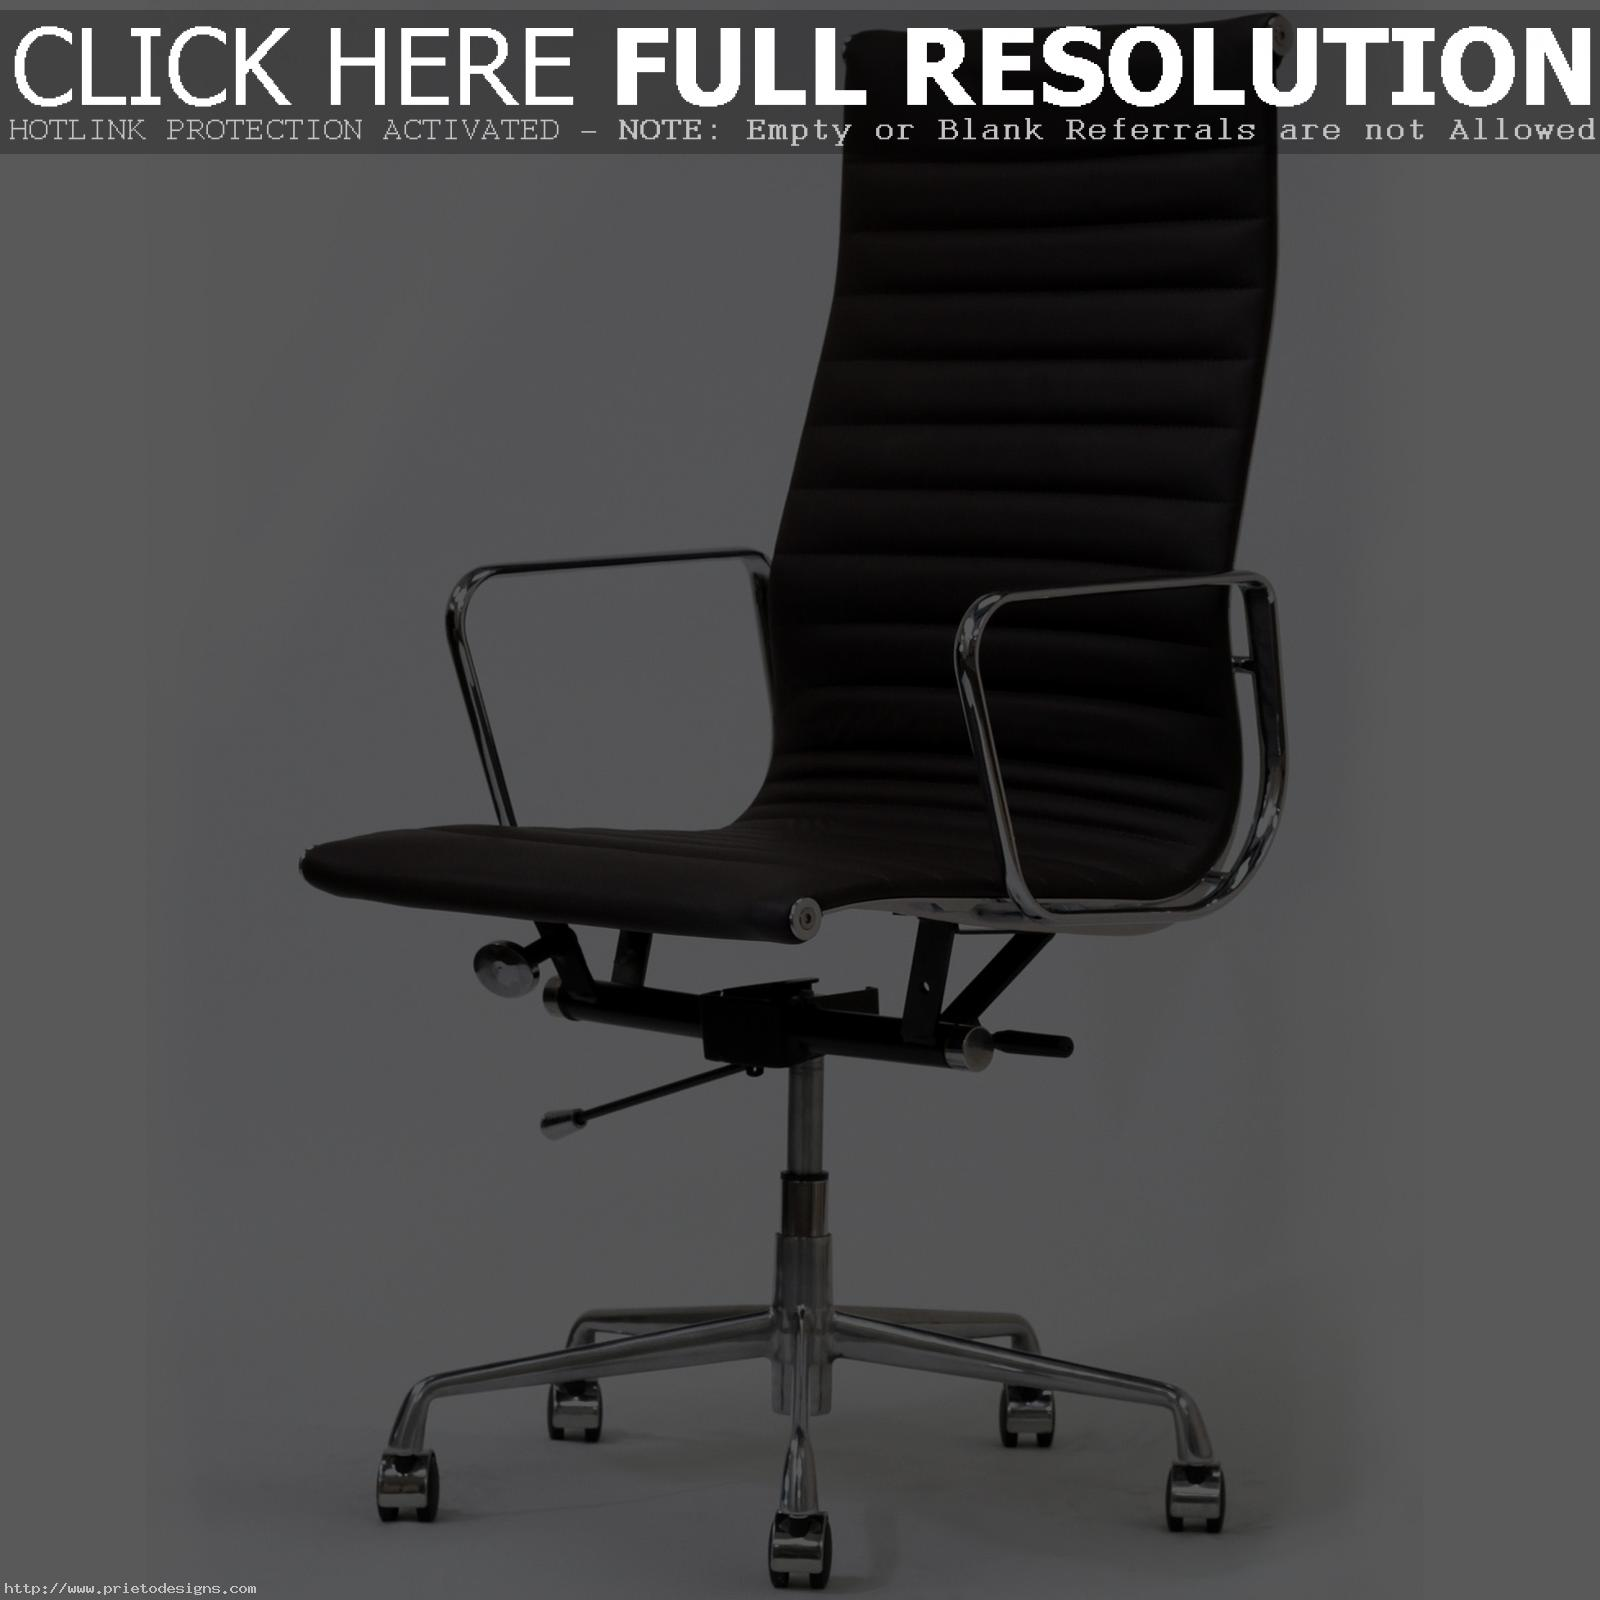chairs: (274, 9, 1307, 1585)
